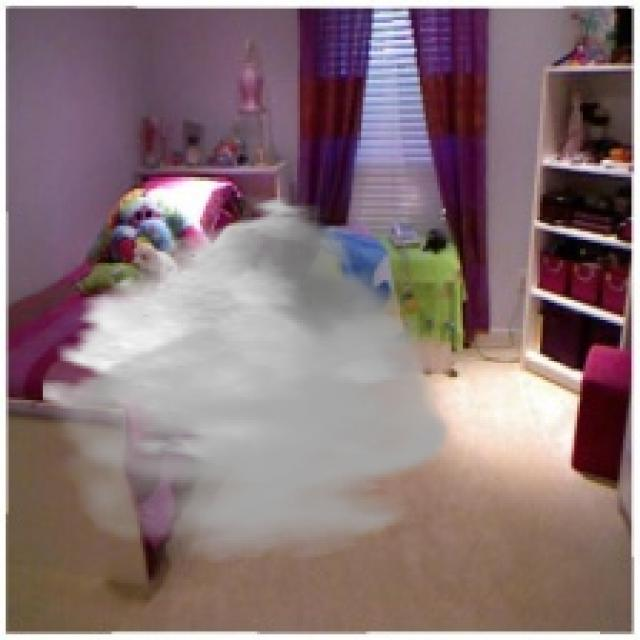smoke: (43, 194, 457, 563)
